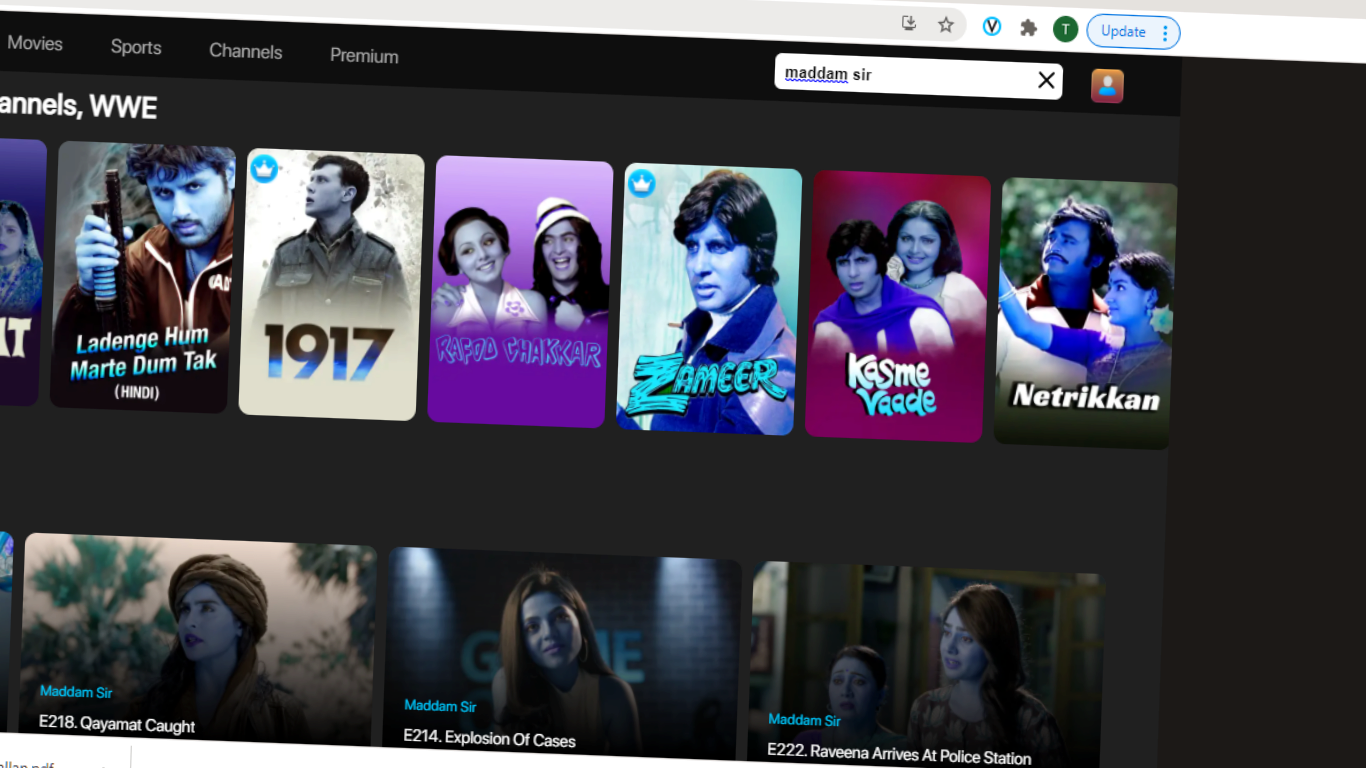profileicon: (1082, 63, 1130, 108)
searchtextbox: (766, 48, 1071, 108)
